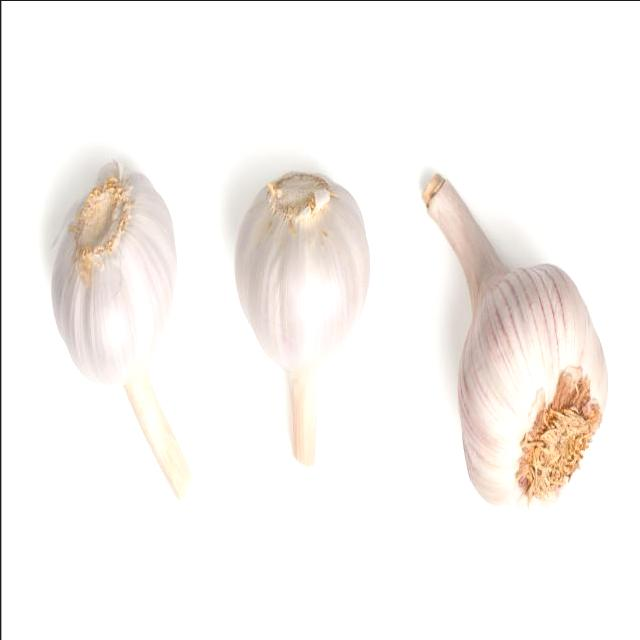garlic: (419, 169, 610, 516), (49, 155, 195, 506), (232, 169, 373, 474)
